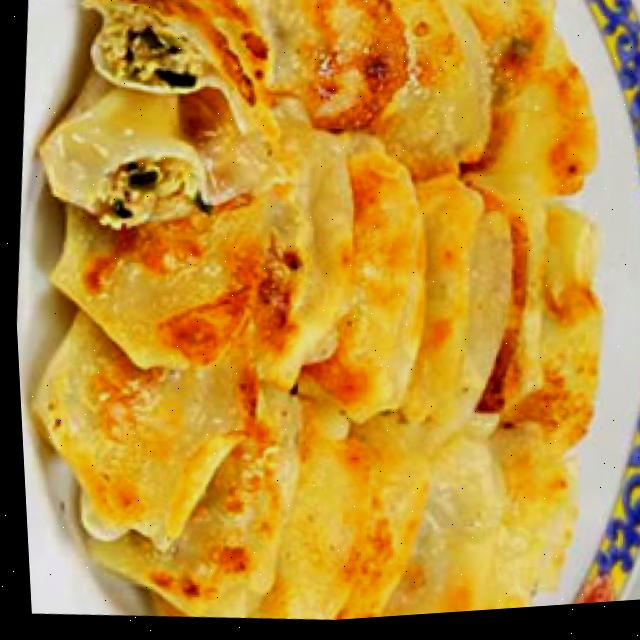带馅早点: (10, 0, 639, 639)
